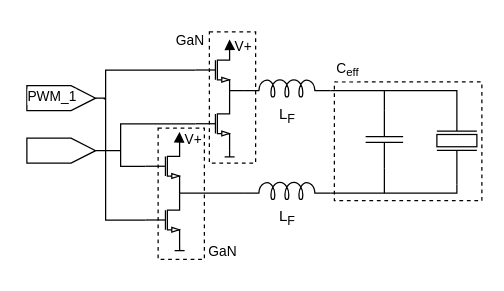
The diagram is 504 pixels wide and 291 high, and some of its shapes have lost their labels. The box of each missing label's shape, as (x1, y1, x2, y2) in pixels:
C F: (364, 109, 403, 168)
PWM_2: (26, 137, 96, 163)
